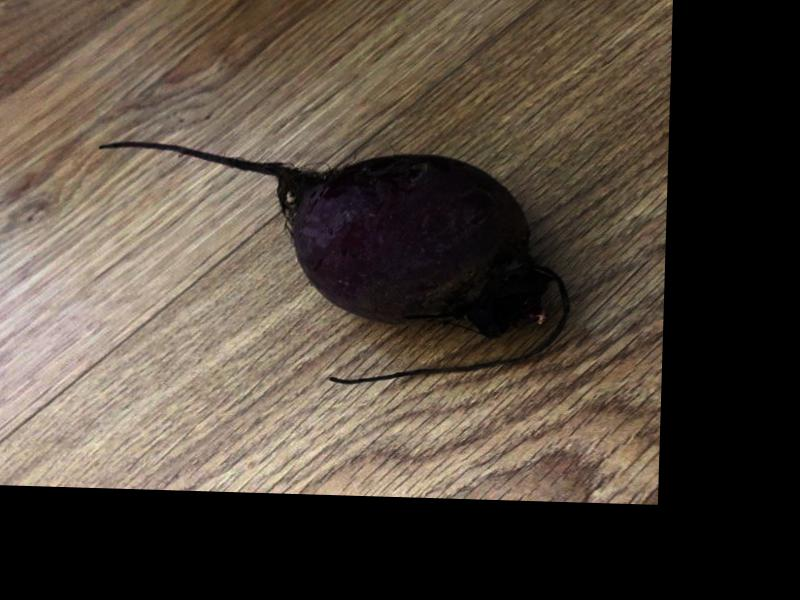Beet: (92, 139, 574, 389)
